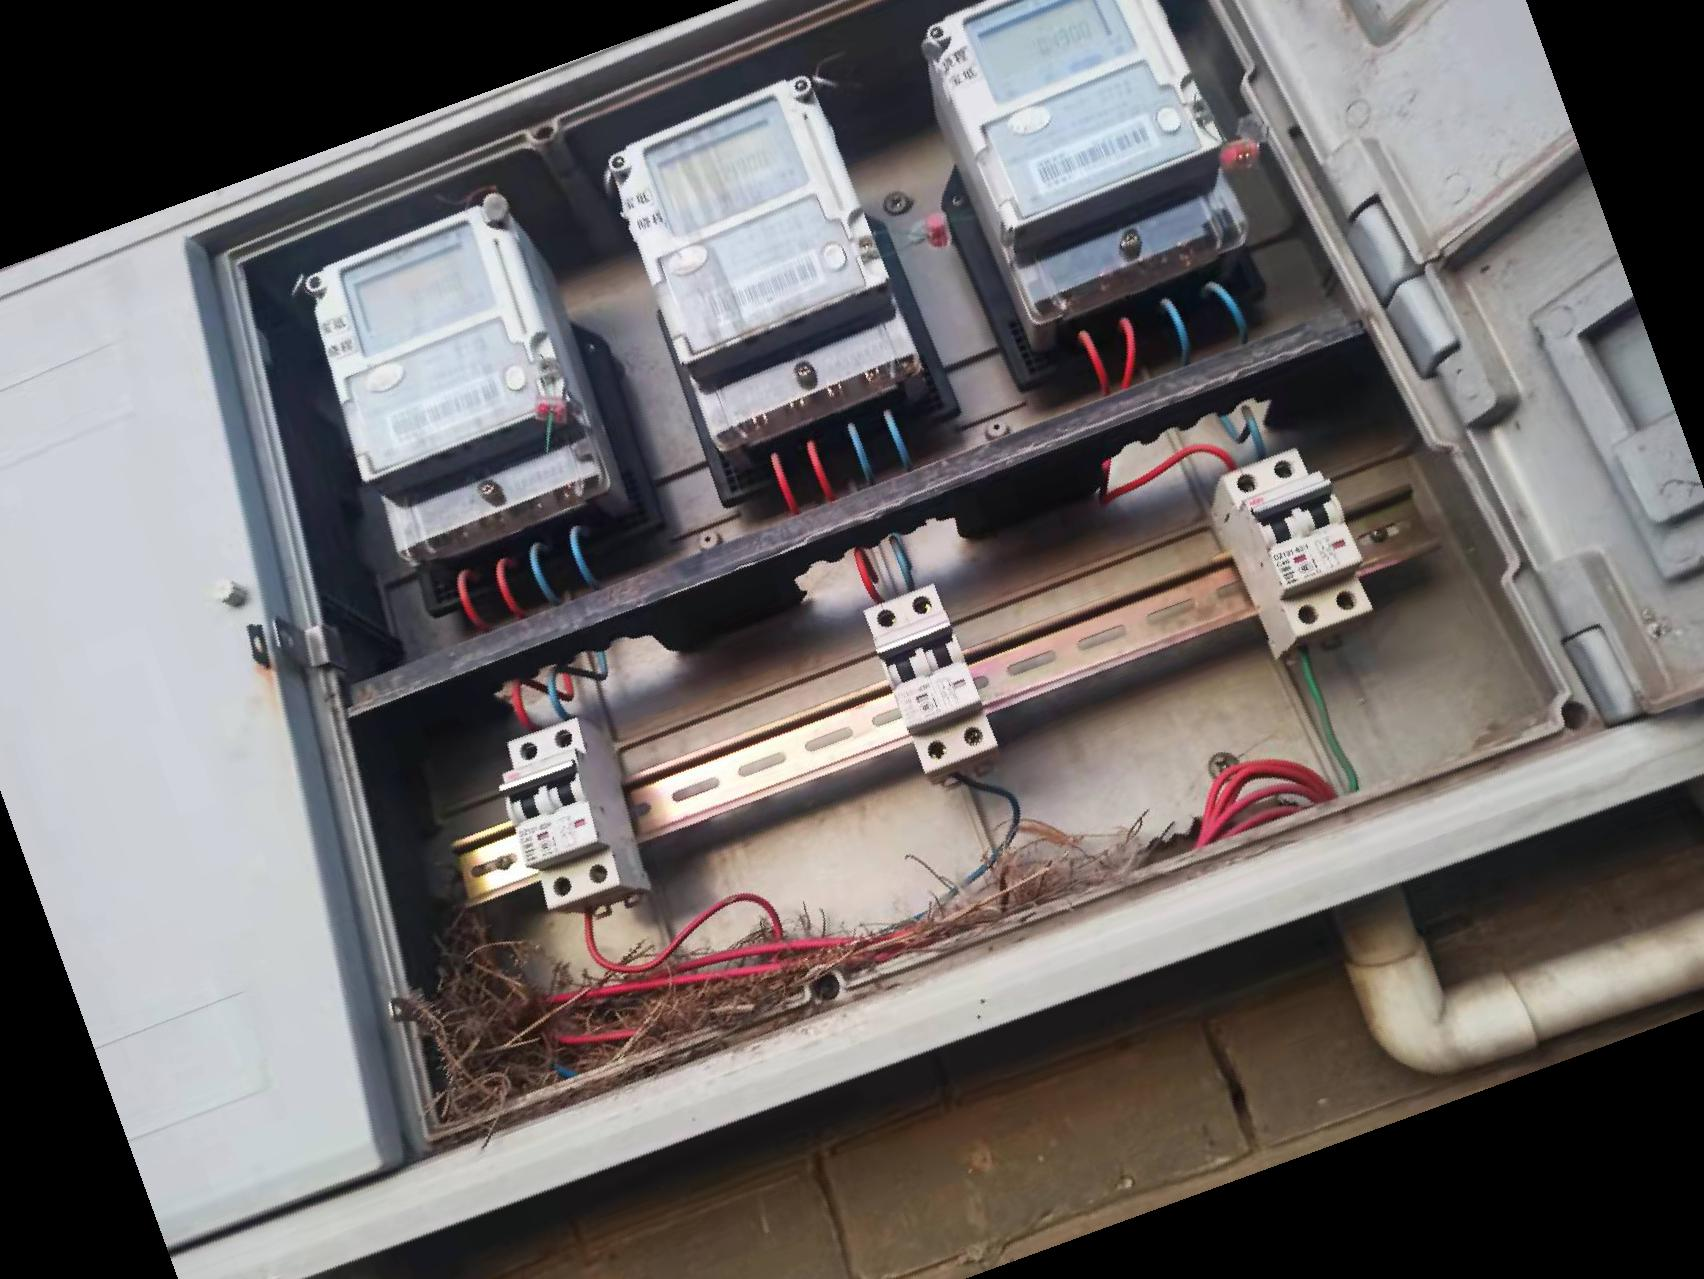digital: (602, 70, 890, 360), (312, 208, 557, 482), (931, 1, 1227, 226)
